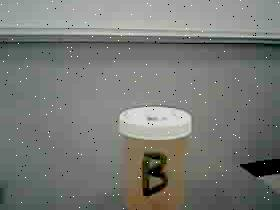Bottle B: (110, 98, 197, 210)
